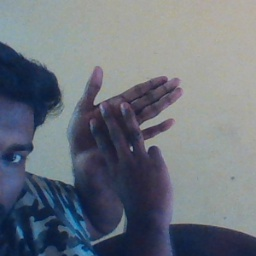M: (63, 65, 185, 211)
